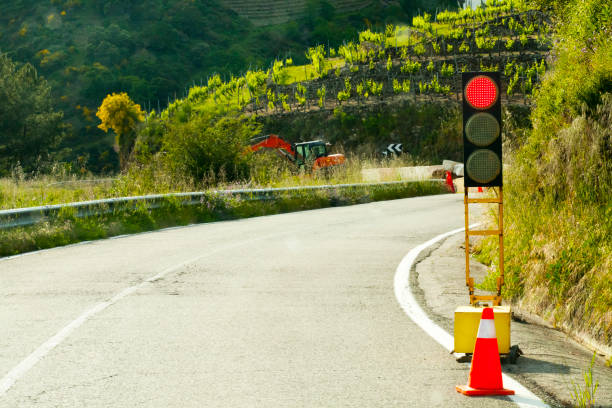bollard: (458, 306, 513, 400)
trafficlight: (458, 68, 506, 188)
